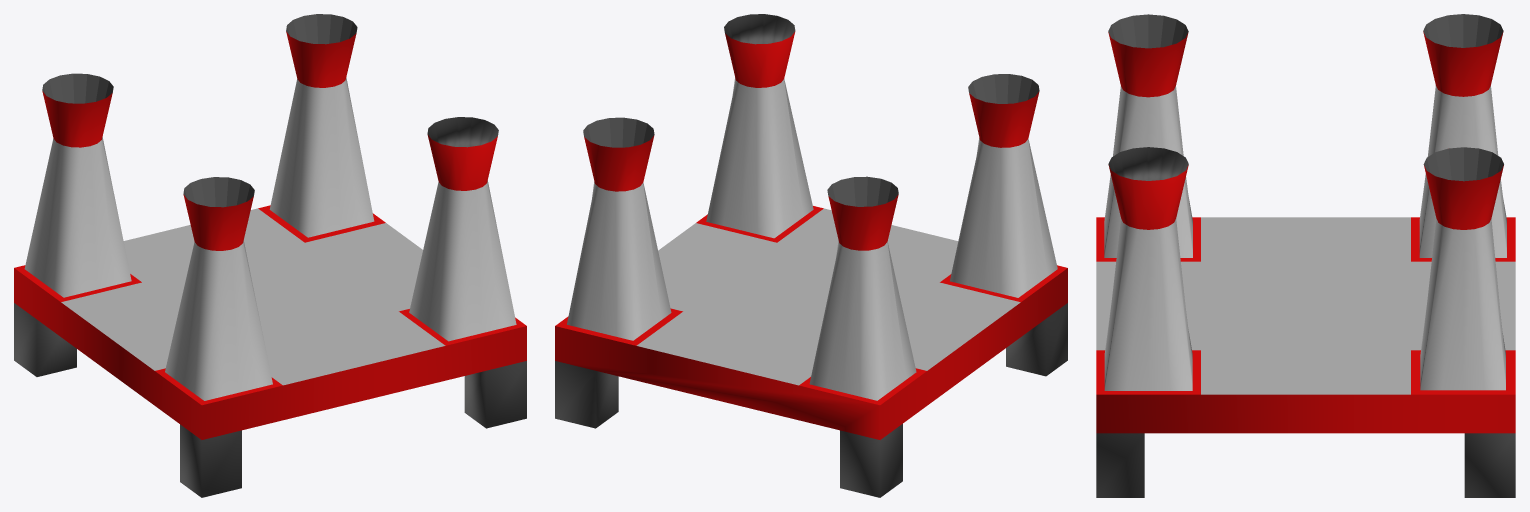
Rendered from WarBaseRed.fbx.
3 views of the same model, side by side, from view 1: azimuth 30°, elevation 25°; view 2: azimuth 150°, elevation 25°; view 3: azimuth 270°, elevation 25° (orthographic). The views are drawn at different scales.
Parts seen in each view (by area): view 1: pCylinder5; view 2: pCylinder5; view 3: pCylinder5.
Part boxes in pixels (x1=…): pCylinder5: x1=14, y1=14, x2=526, y2=497; pCylinder5: x1=555, y1=14, x2=1067, y2=497; pCylinder5: x1=1096, y1=14, x2=1515, y2=497.
Size of the model in its own units: 3.67 by 3.01 by 3.67.
